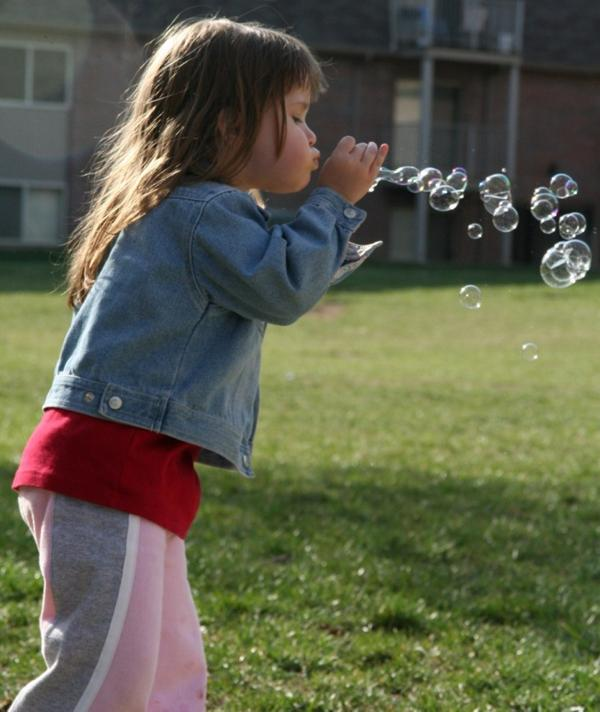person: (11, 20, 394, 712)
